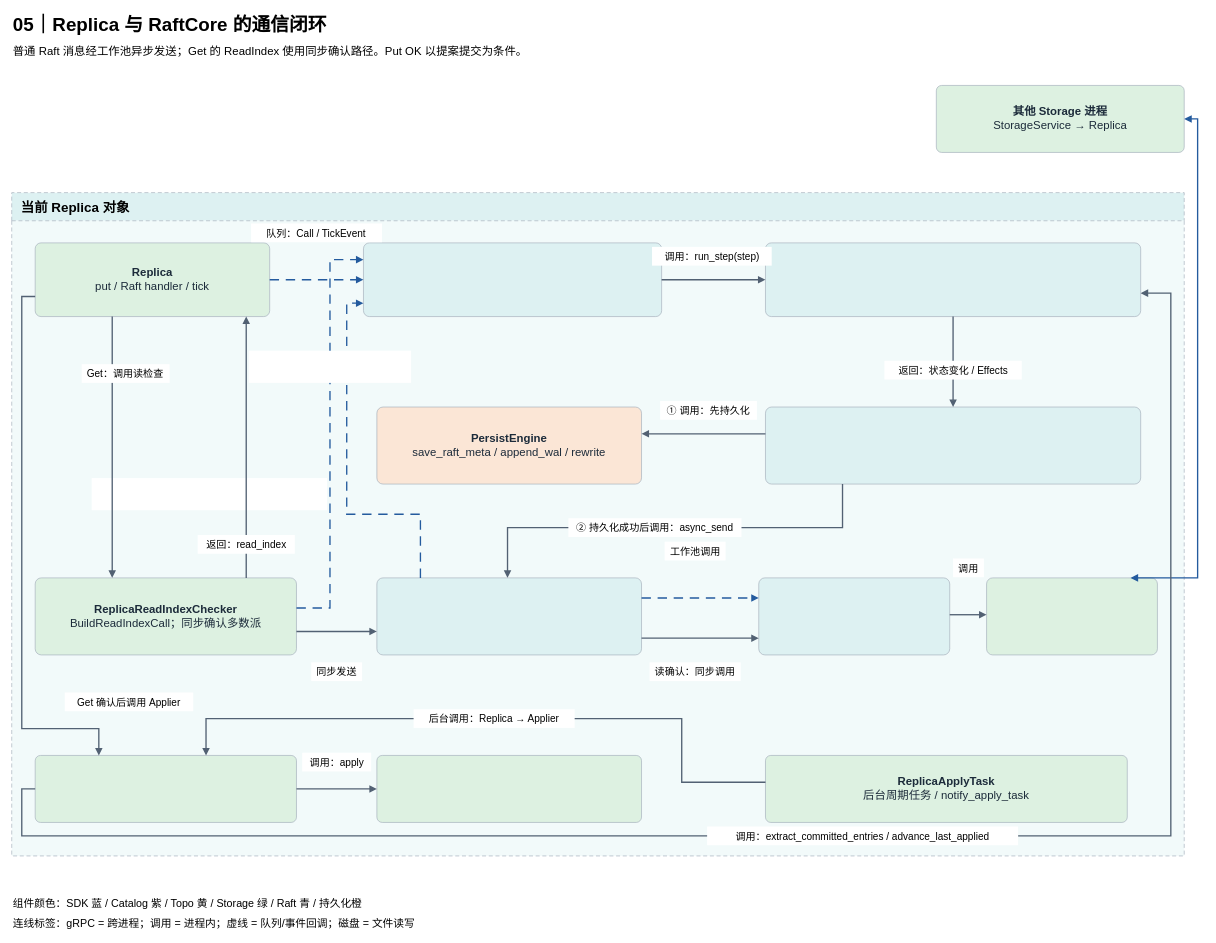
Image size: 1216x943. Some labels were removed from this diagram. The centre of each missing label's shape, as x and y in pixels:
GrpcRaftRpcTransport gRPC Stub / Channel: point (1071, 616)
gRPC：PreVote / RequestVote AppendEntries / InstallSnapshot: point (1070, 175)
KvStateMachine Map + request record: point (509, 788)
RaftCore propose / tick / handle_*；产出 Effects: point (953, 279)
RaftEffects hard_state / WAL entries / messages: point (953, 445)
RaftSender 构造 / 发送协议 RPC: point (854, 616)
ReplicaApplier 读已提交日志 → 状态机 apply: point (165, 788)
ReplicaLoop BatchDispatchQueue → SerialTaskRunner: point (512, 279)
ReplicaMessageDispatcher RPC 工作池；async_send(messages): point (509, 616)
异步回调：ResponseEvent / SendFailedEvent async_submit → handle_event: point (209, 494)
队列调用：BuildReadIndexCall 同步等待；响应再提交 Loop: point (330, 366)
